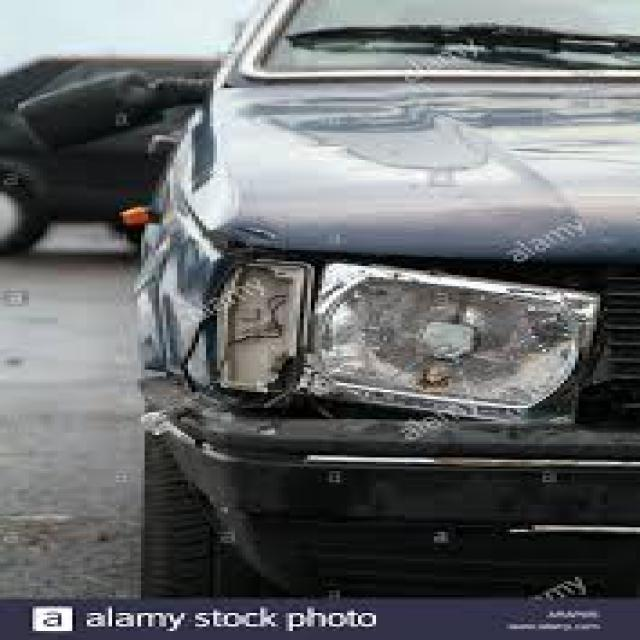Headlight-Damage: (170, 255, 614, 442)
